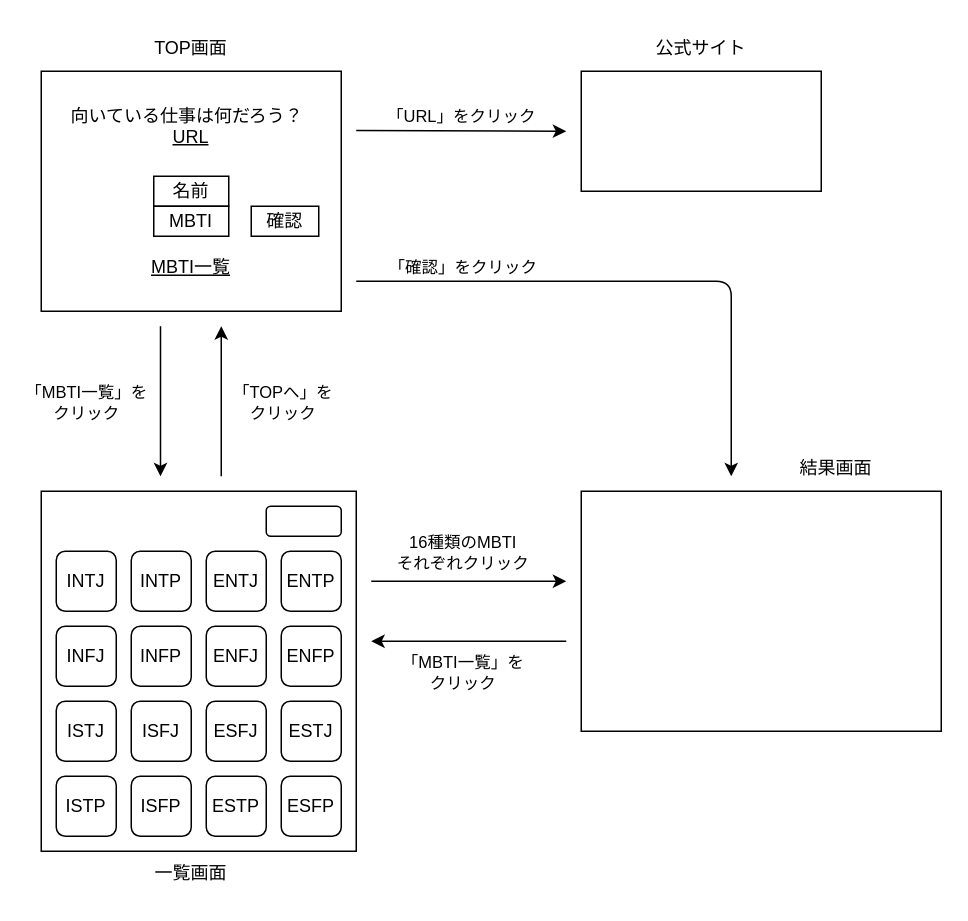
The diagram is 968 pixels wide and 921 high, and some of its shapes have lost their labels. The shapes that lost their labels are listed below. From the top down, each one's centre as x and y in pixels, then its label:
At pixel 700 130: "診断サイト".
At pixel 303 520: "TOPへ".
At pixel 760 610: "向いている仕事 一人で集中できる仕事 体を動かす仕事 etc... MBTI一覧".
